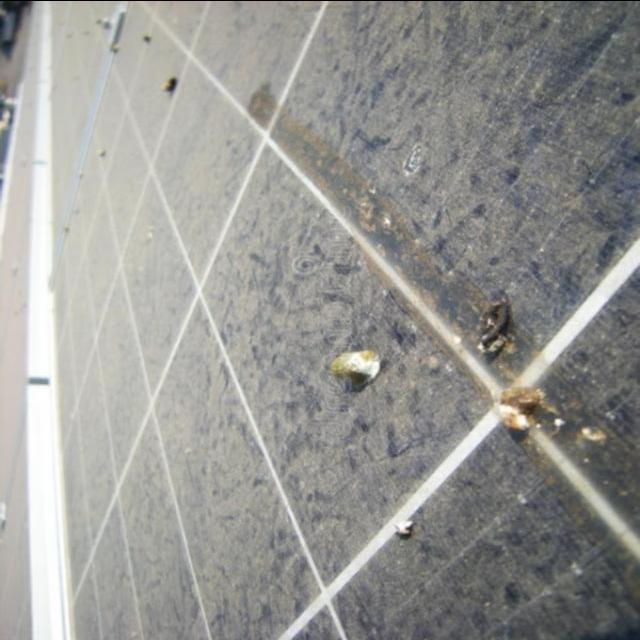soiled: (62, 0, 640, 631)
